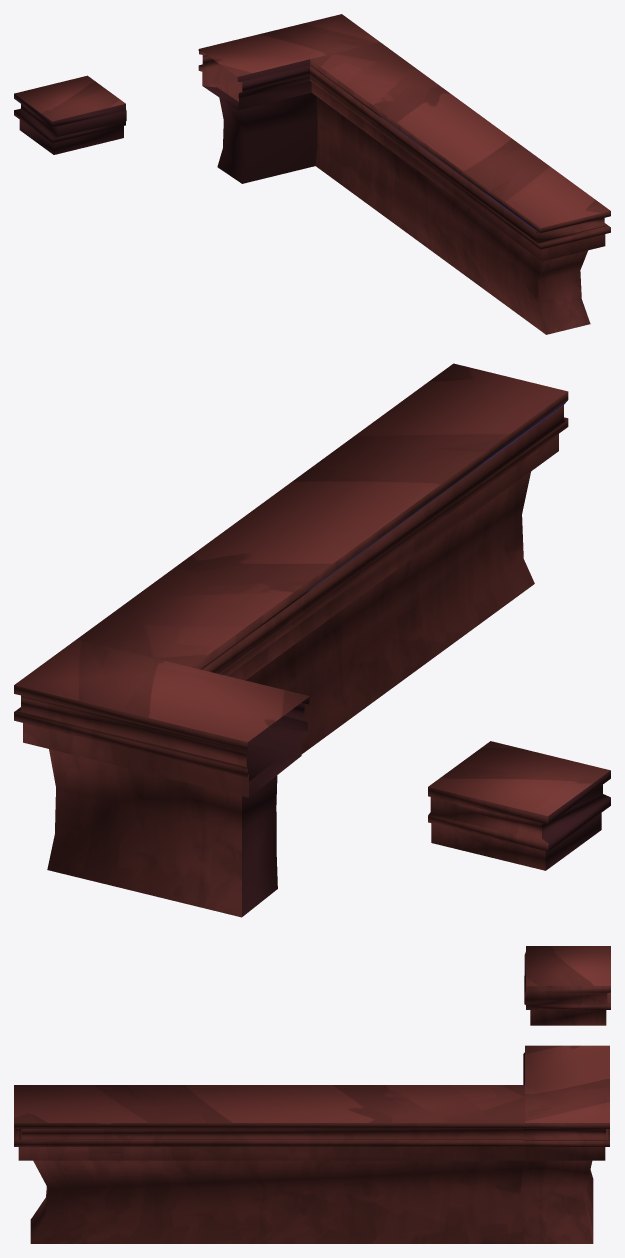
The model's file is Balcao.fbx.
The picture shows the model from 3 angles, top to bottom: view 1: azimuth 30°, elevation 25°; view 2: azimuth 150°, elevation 25°; view 3: azimuth 270°, elevation 25°; orthographic projection. The views are drawn at different scales.
Visible parts, largest first — view 1: Balcao; view 2: Balcao; view 3: Balcao.
Boxes of the visible parts, x1,y1,x2,y2 form: Balcao: [14, 14, 610, 334]; Balcao: [14, 363, 610, 917]; Balcao: [14, 946, 610, 1243].
Size of the model in its own units: 395 by 563 by 133.
